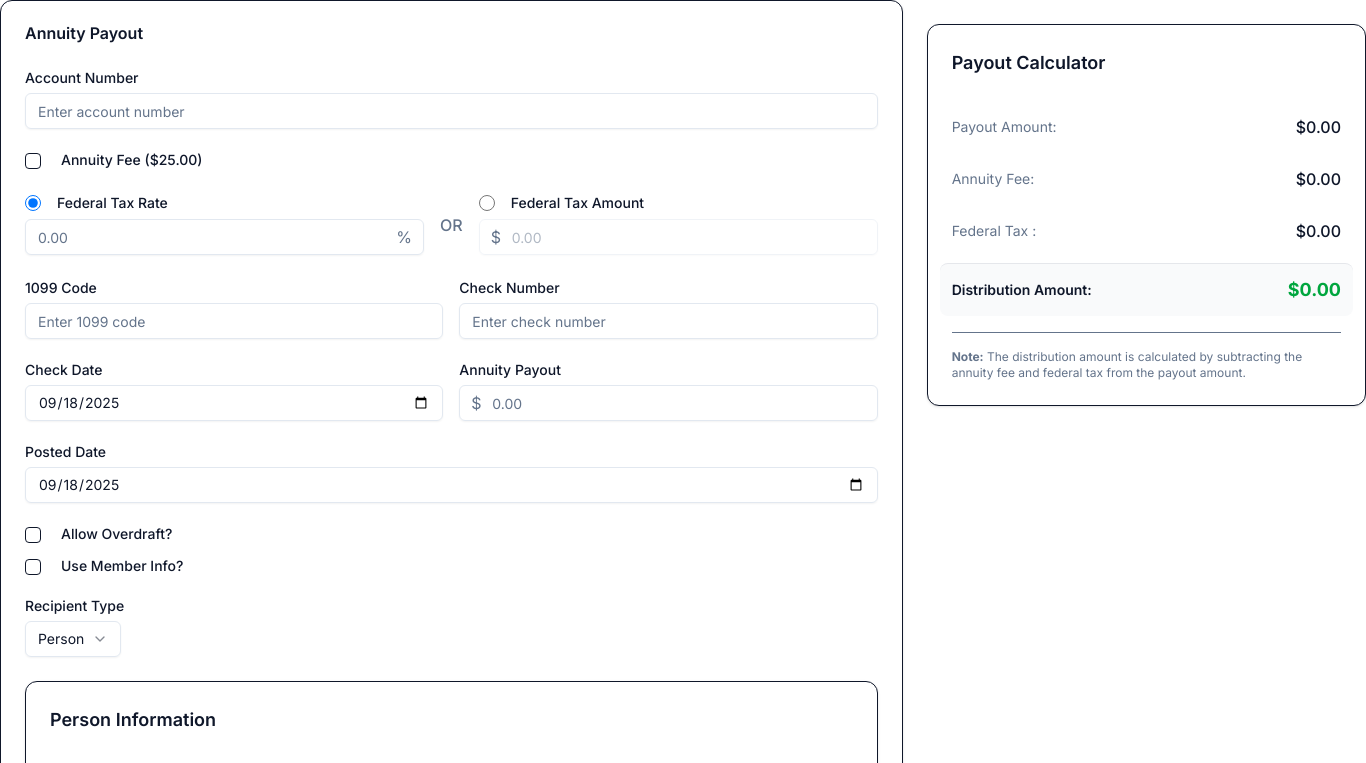
Test case: AnnuityPayoutForm › handles federal tax type switching correctly
The width and height of the screenshot is (1366, 763).
Expected: the radio button named "federal tax rate" is checked, [25,195,41,211]
Expected: the number field named "federal tax rate" is enabled, [25,219,424,255]
Switch to amount
Click the radio button named "federal tax amount".
click(487, 203)  # box [479,195,495,211]
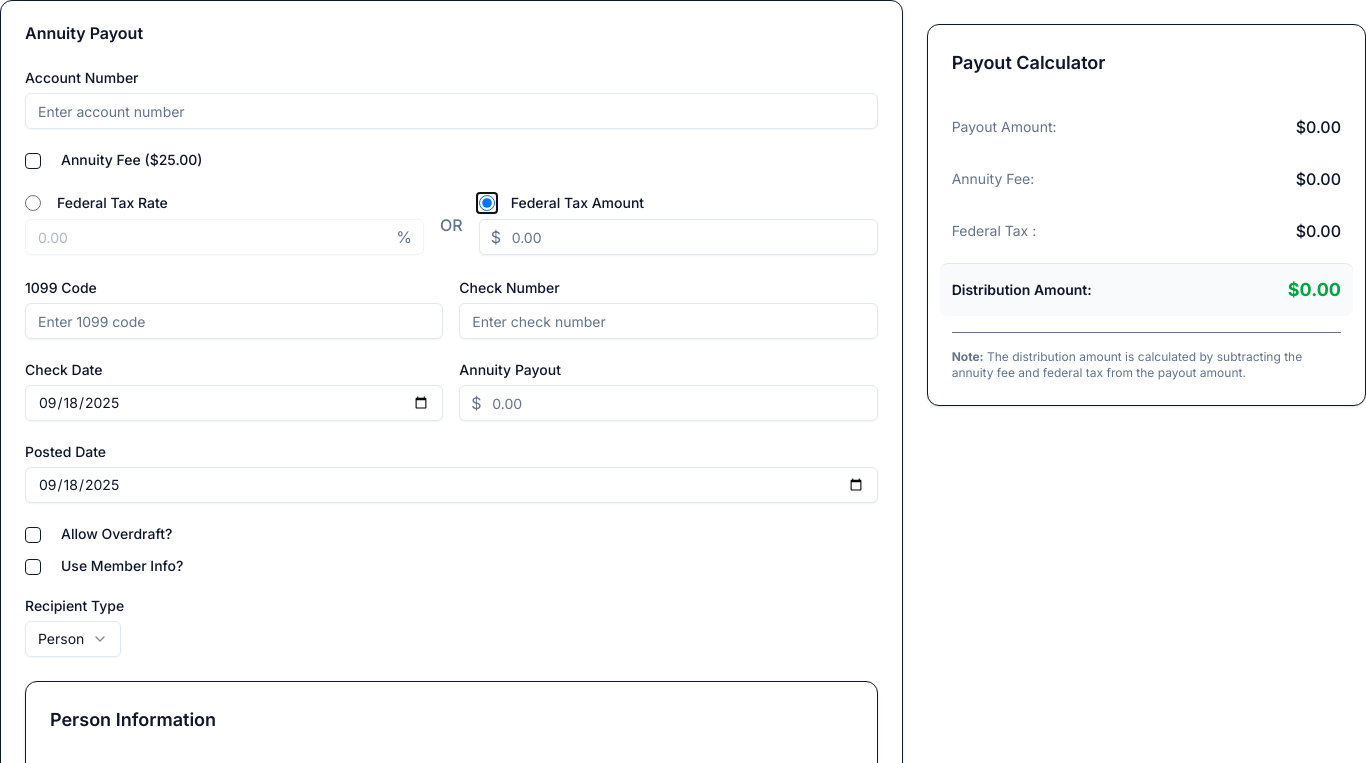
Expected: the radio button named "federal tax amount" is checked, [479,195,495,211]
Expected: the radio button named "federal tax rate" is not checked, [25,195,41,211]
Expected: the number field named "federal tax amount" is enabled, [479,219,878,255]
